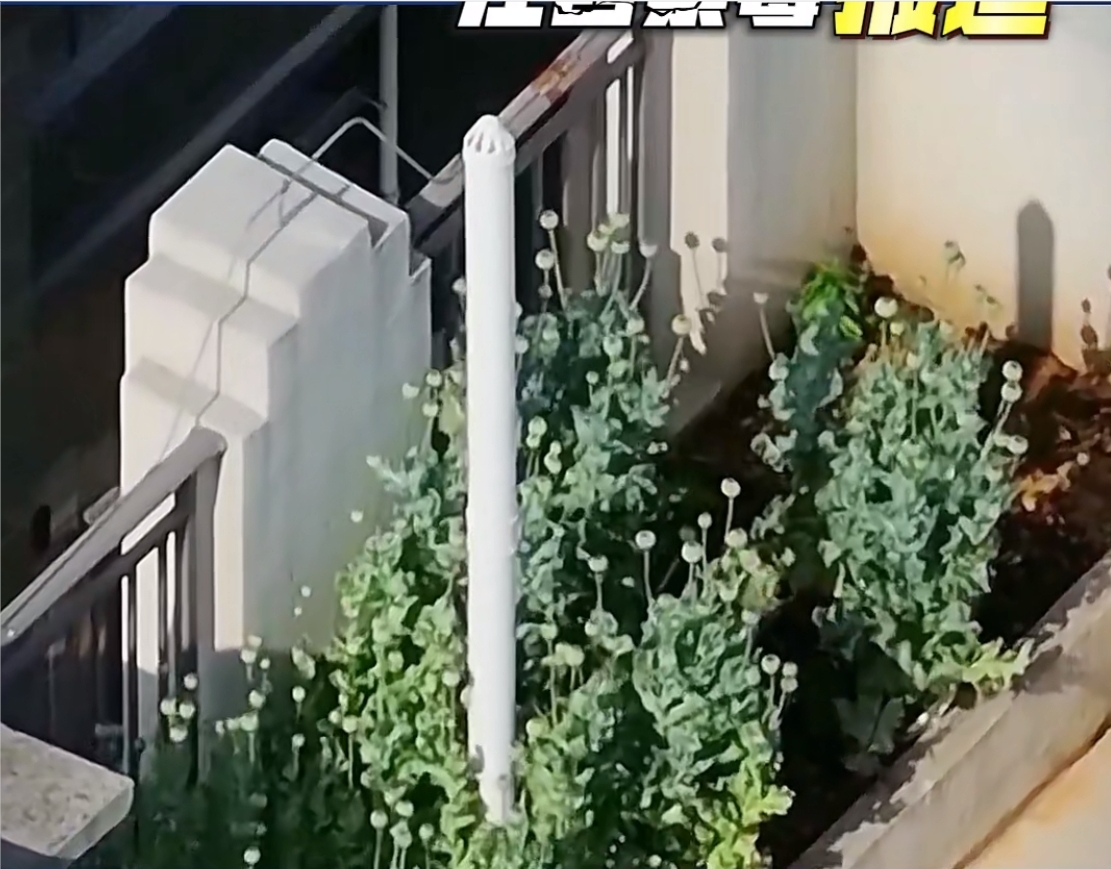Poppy: (519, 193, 803, 863), (174, 358, 472, 850), (815, 253, 1039, 766)
